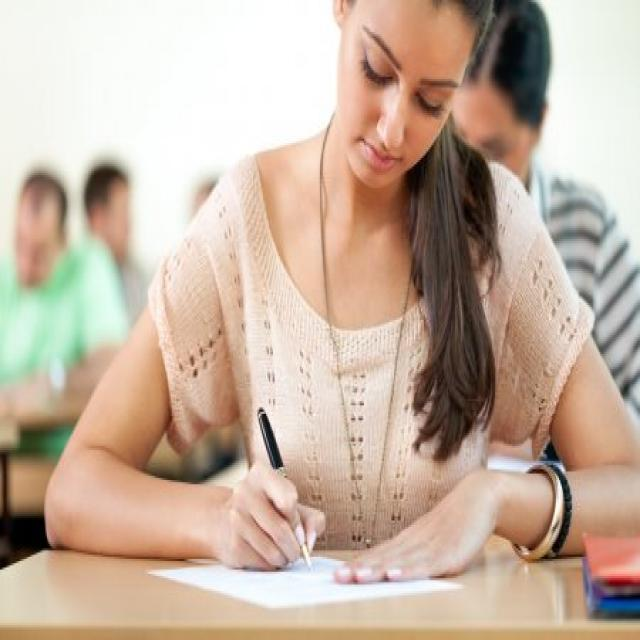good: (36, 2, 640, 640)
